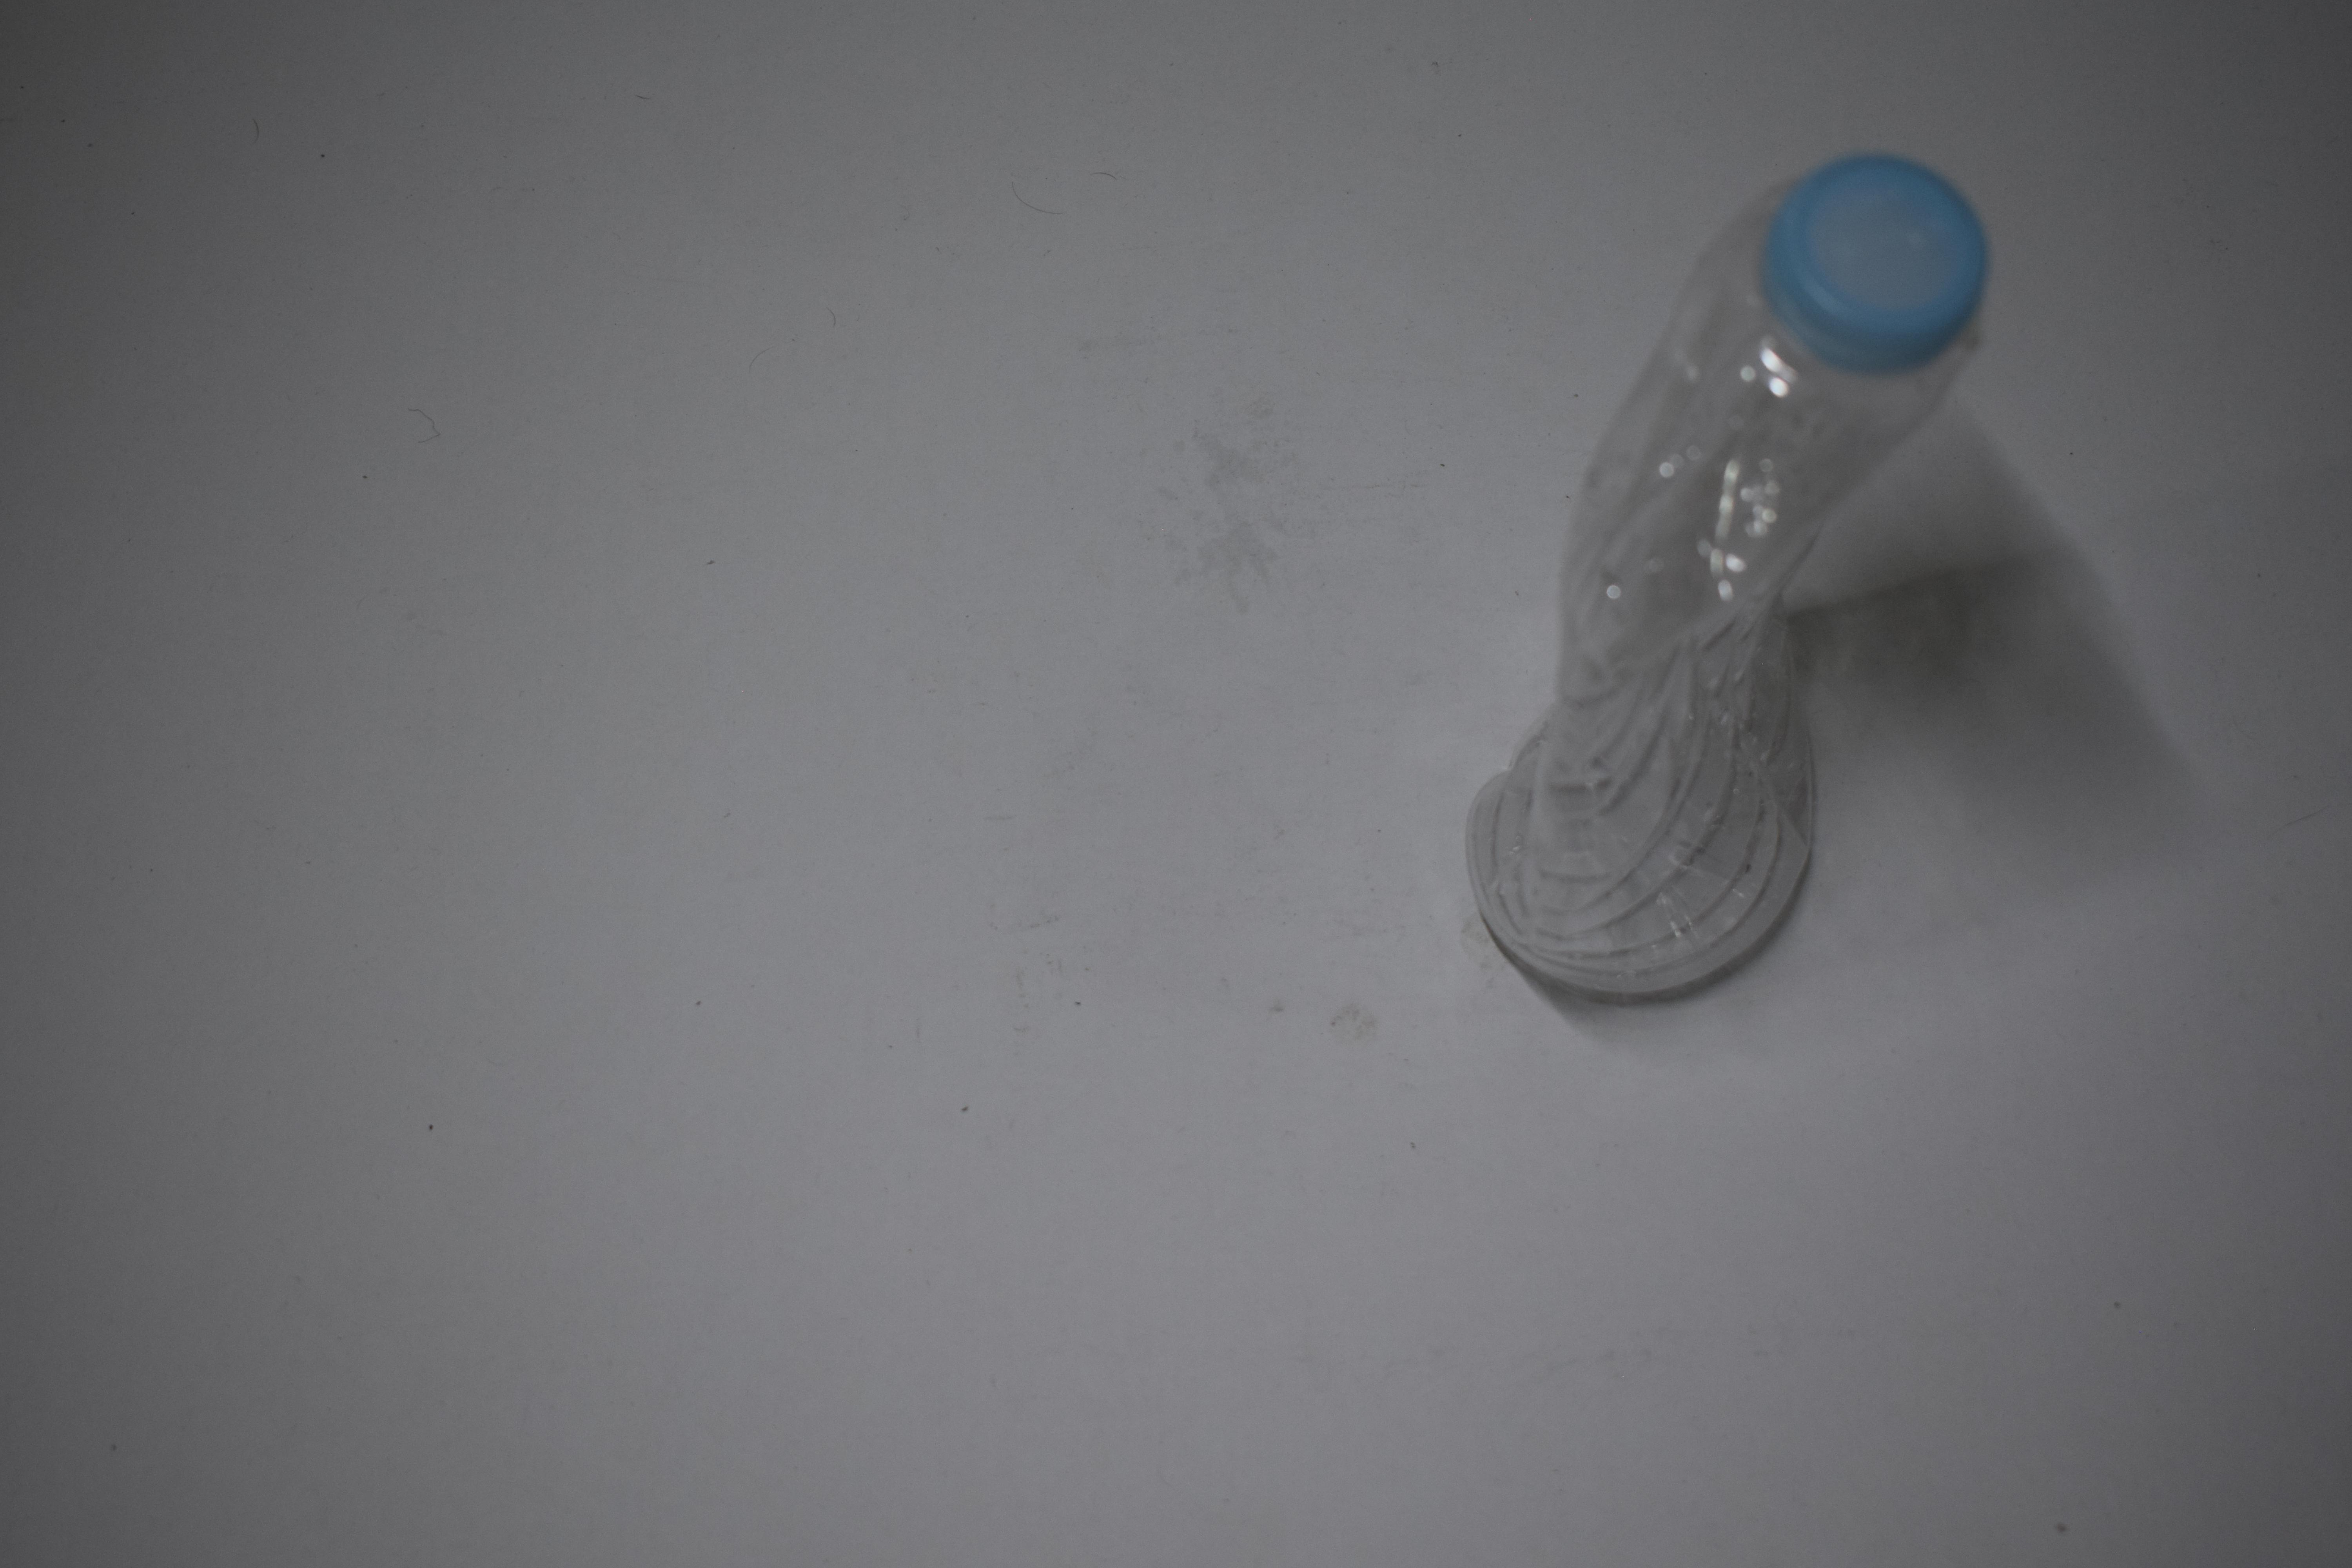bottle: (1463, 569, 2004, 579)
